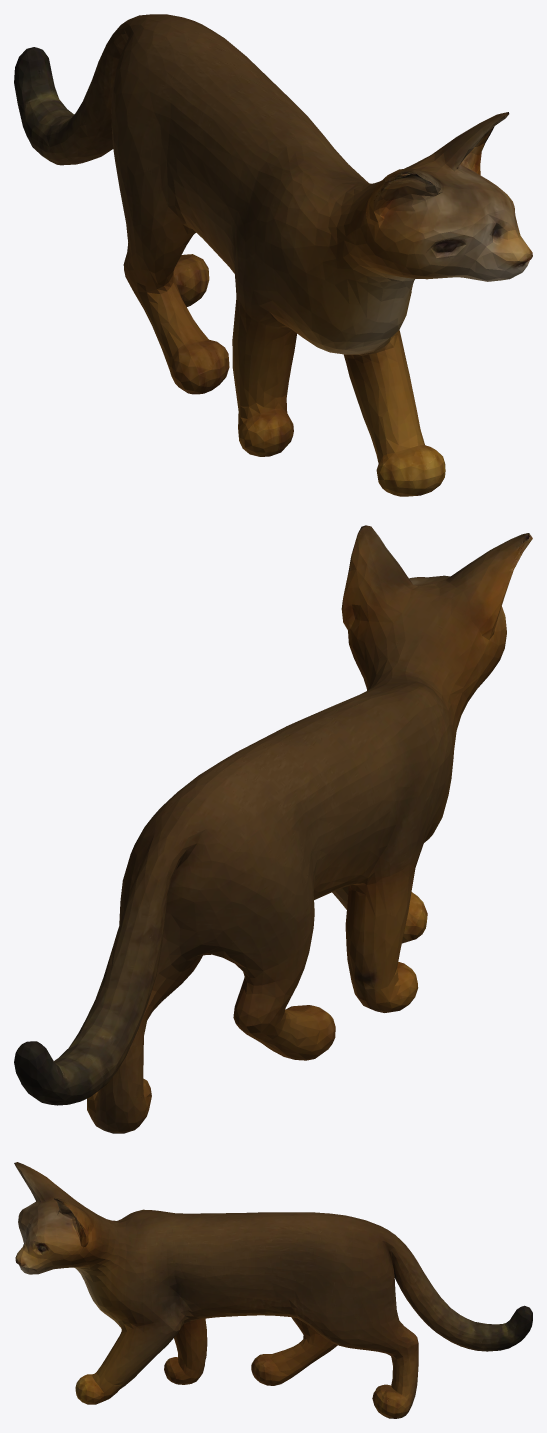
3 renders of one model, top to bottom at view 1: azimuth 30°, elevation 25°; view 2: azimuth 150°, elevation 25°; view 3: azimuth 270°, elevation 25°, orthographic. The views are drawn at different scales.
Visible parts, largest first — view 1: geometry_0; view 2: geometry_0; view 3: geometry_0.
Part boxes in pixels (bbox=[...]): geometry_0: bbox=[14, 14, 532, 496]; geometry_0: bbox=[14, 525, 532, 1133]; geometry_0: bbox=[14, 1162, 532, 1418].
Size of the model in its own units: 0.2079 by 0.4854 by 0.9999.
Materials: 1 (1 with a texture image).
